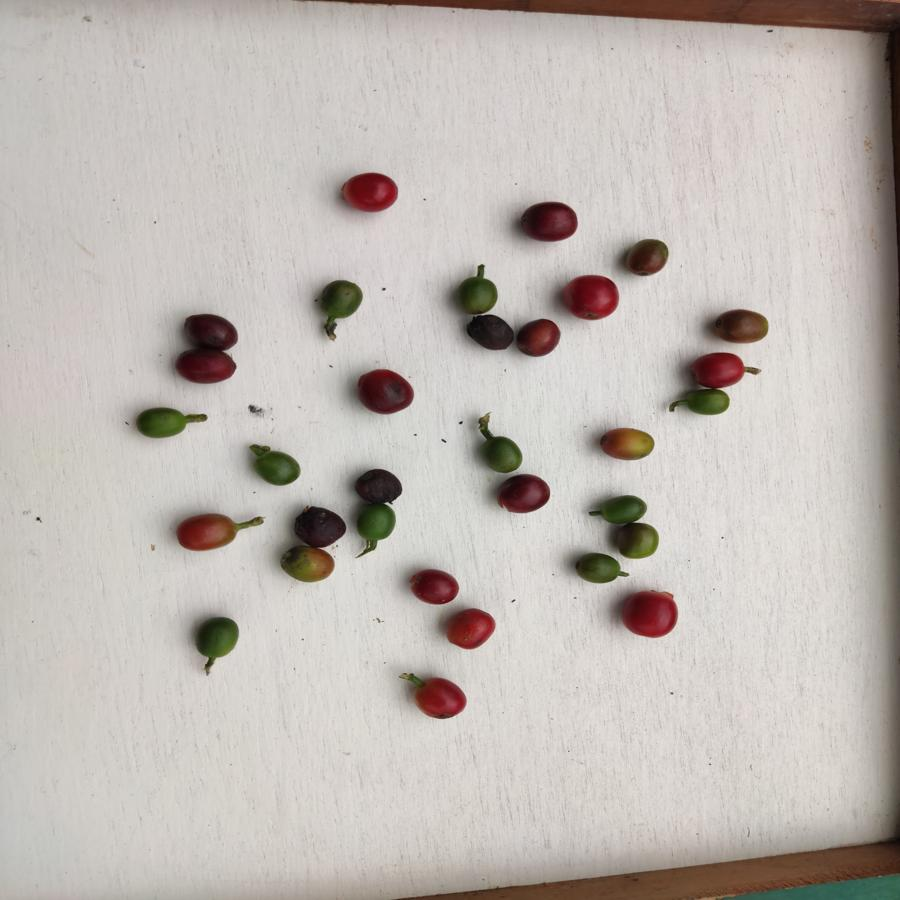Inmaduro: (252, 442, 305, 488), (192, 613, 242, 660), (318, 275, 365, 320), (453, 273, 503, 315), (479, 432, 525, 475), (575, 546, 619, 587), (618, 522, 660, 562), (682, 386, 733, 418), (600, 492, 649, 525), (356, 504, 398, 542), (137, 407, 188, 438)
Maduro: (561, 270, 623, 323), (620, 588, 680, 641), (340, 168, 402, 215), (171, 513, 238, 551), (415, 675, 467, 723), (446, 603, 495, 651), (408, 562, 460, 605), (690, 349, 745, 388), (515, 318, 562, 358)
Pinton: (600, 422, 656, 464), (713, 305, 770, 345), (279, 546, 337, 583), (623, 238, 672, 276)
Sobremaduro: (352, 368, 414, 415), (517, 201, 583, 242), (497, 472, 554, 515), (292, 504, 348, 546), (171, 348, 240, 382), (182, 311, 242, 350), (464, 313, 516, 352), (352, 468, 404, 505)
